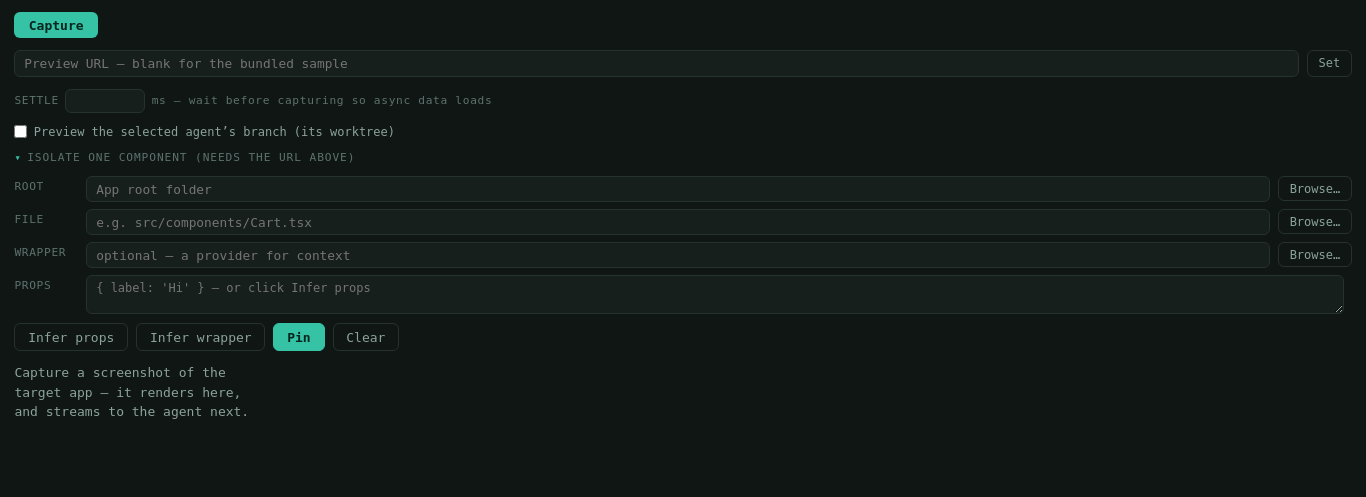
Test: Preview › surfaces a worktree dev-server failure
Click the checkbox named "Preview the selected agent's branch": (21, 132) [14, 125, 27, 138]
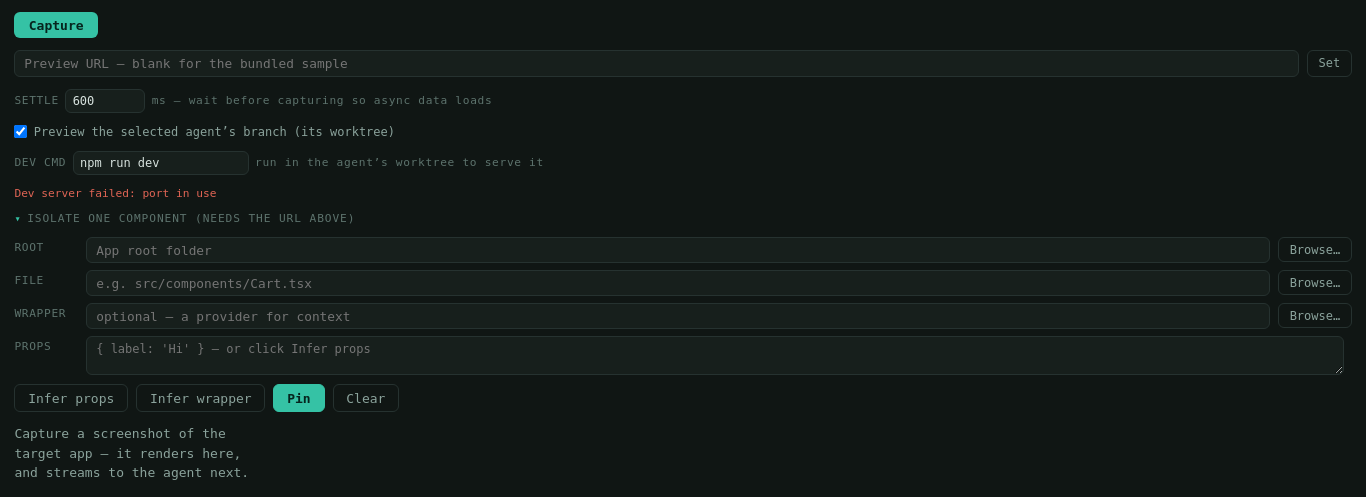
Result: the text "Dev server failed: port in use" is shown at [14, 187, 216, 200]
